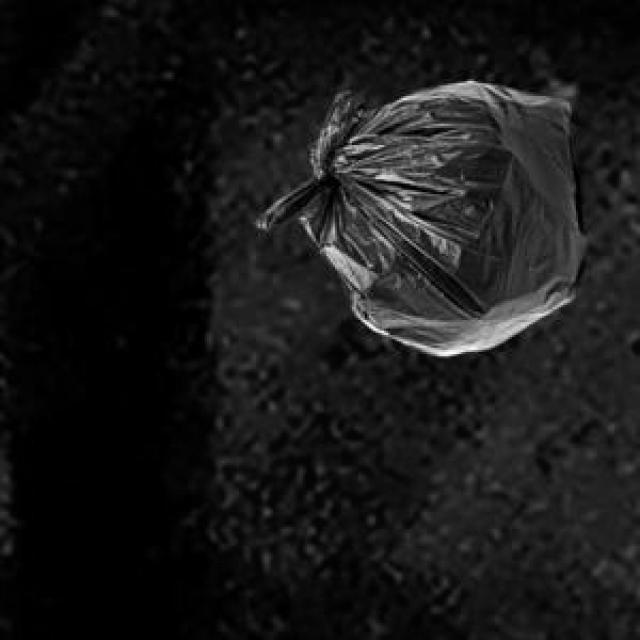miscellaneous trash: (252, 77, 580, 352)
